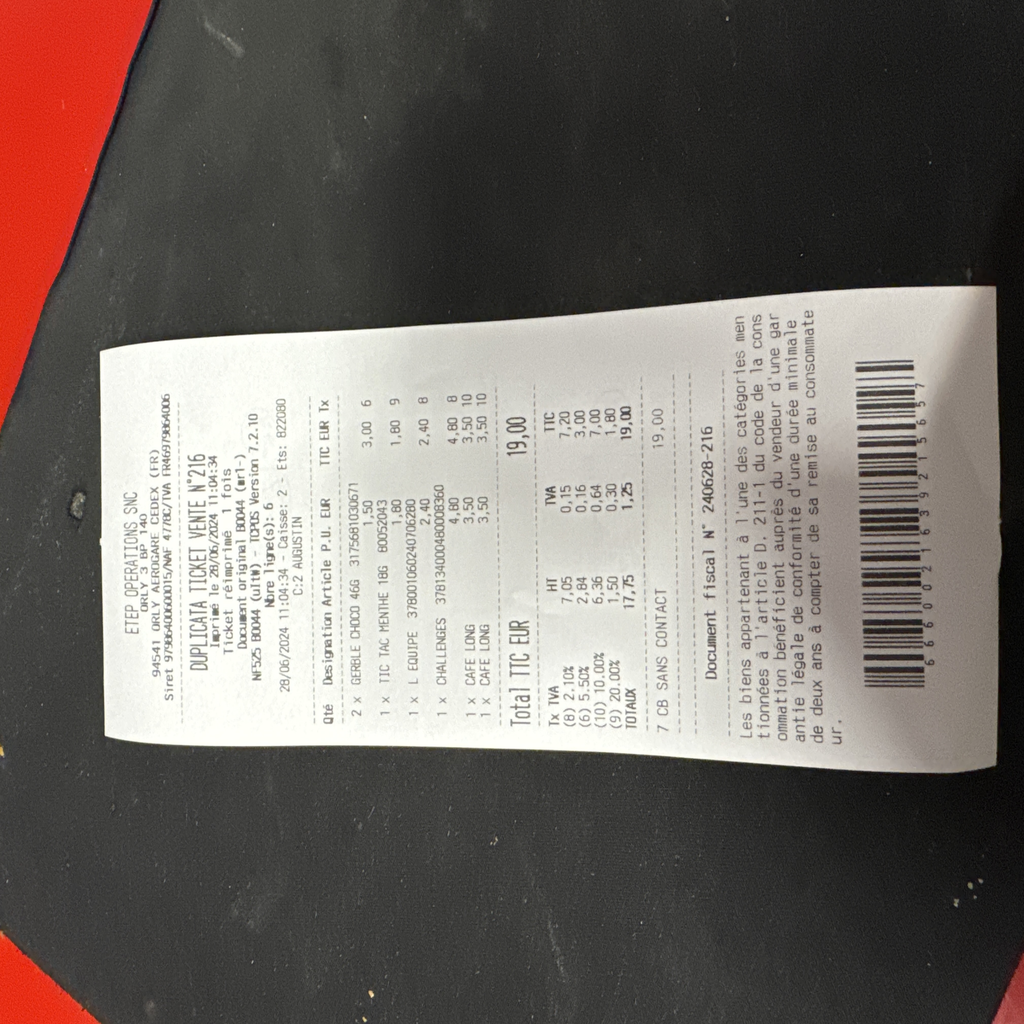recipt: (97, 287, 999, 779)
